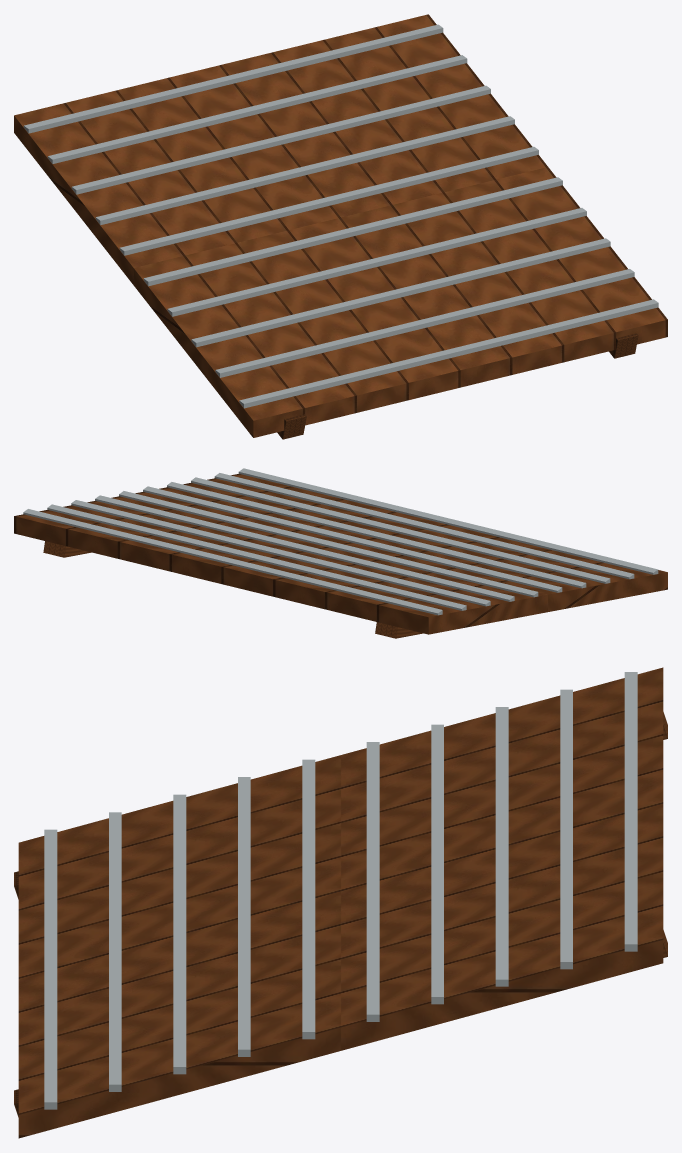
Rendered from modular-survival-base-builder-loading-ramp-cleated-6cebde02__24195.glb.
3 renders of one model, top to bottom at view 1: azimuth 30°, elevation 25°; view 2: azimuth 150°, elevation 25°; view 3: azimuth 270°, elevation 25°, orthographic. The views are drawn at different scales.
Visible parts, largest first — view 1: loading-ramp-cleated; view 2: loading-ramp-cleated; view 3: loading-ramp-cleated.
Boxes of the visible parts, x1,y1,x2,y2 form: loading-ramp-cleated: [14, 14, 667, 439]; loading-ramp-cleated: [14, 468, 667, 638]; loading-ramp-cleated: [14, 667, 667, 1138].
Bounding box in the file's own units: 2 × 0.7279 × 2.03.
Materials: 2 (1 with a texture image).
